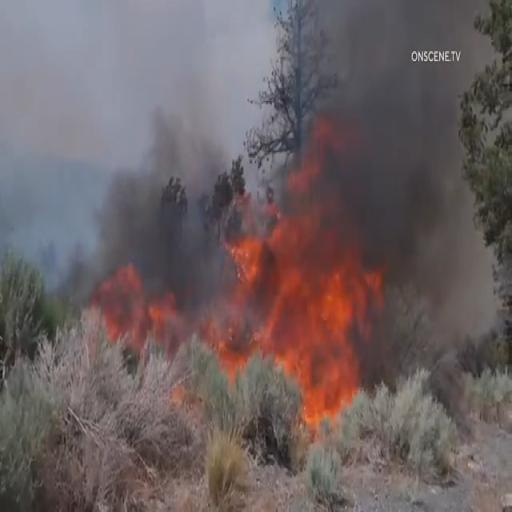fire: (225, 159, 357, 420), (98, 263, 200, 353)
smoke: (374, 92, 455, 298), (92, 114, 215, 238)
